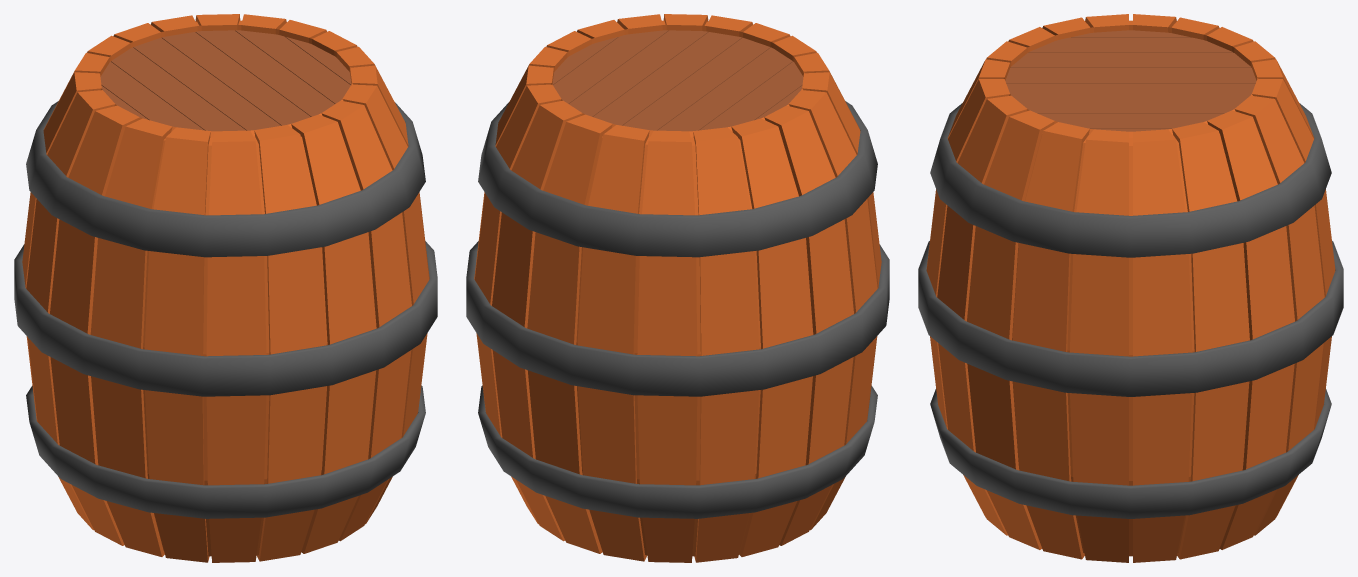
The model's file is barrel.glb.
3 renders of one model, left to right at view 1: azimuth 30°, elevation 25°; view 2: azimuth 150°, elevation 25°; view 3: azimuth 270°, elevation 25°, orthographic.
Parts seen in each view (by area): view 1: Cylinder, Cylinder.001, Plane; view 2: Cylinder, Cylinder.001, Plane; view 3: Cylinder, Cylinder.001, Plane.
Part boxes in pixels (box(x1,y1,x2,y2)): Cylinder: box(22, 14, 429, 562); Cylinder.001: box(14, 101, 437, 518); Plane: box(100, 30, 351, 131); Cylinder: box(474, 14, 881, 562); Cylinder.001: box(466, 101, 889, 518); Plane: box(552, 30, 803, 131); Cylinder: box(926, 14, 1335, 562); Cylinder.001: box(918, 103, 1343, 518); Plane: box(1005, 30, 1256, 131).
Bounding box in the file's own units: 2.79 × 3.04 × 2.79.
